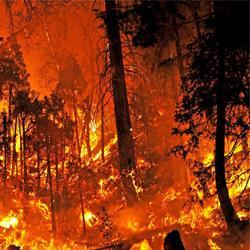fire: (86, 126, 112, 160), (1, 206, 21, 238), (226, 176, 249, 193)
